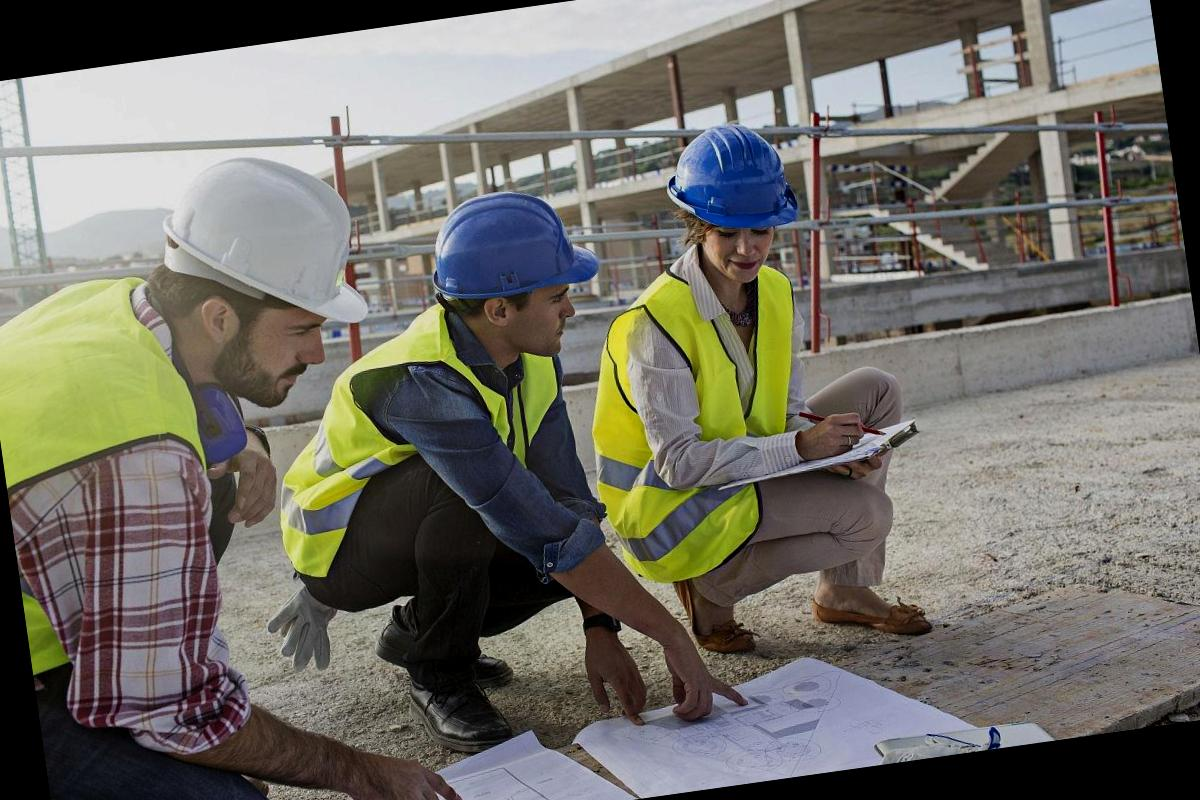helmet: (157, 134, 376, 340), (416, 184, 604, 303), (671, 112, 800, 249)
person: (231, 165, 712, 776), (0, 141, 445, 800), (552, 83, 959, 684)
